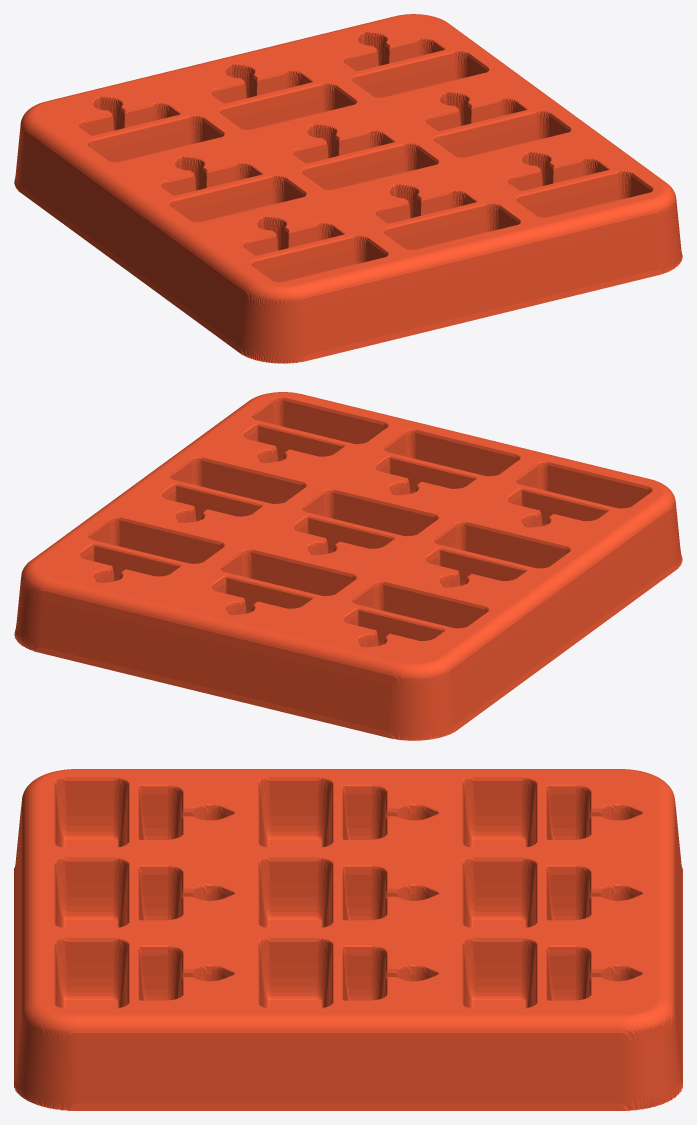
The model's file is mold.glb.
3 renders of one model, top to bottom at view 1: azimuth 30°, elevation 25°; view 2: azimuth 150°, elevation 25°; view 3: azimuth 270°, elevation 25°, orthographic. The views are drawn at different scales.
Visible parts, largest first — view 1: geometry_0; view 2: geometry_0; view 3: geometry_0.
Part boxes in pixels (bbox=[...]): geometry_0: bbox=[14, 14, 682, 363]; geometry_0: bbox=[14, 392, 682, 740]; geometry_0: bbox=[14, 769, 682, 1110].
Size of the model in its own units: 0.0904 by 0.0136 by 0.0964.
